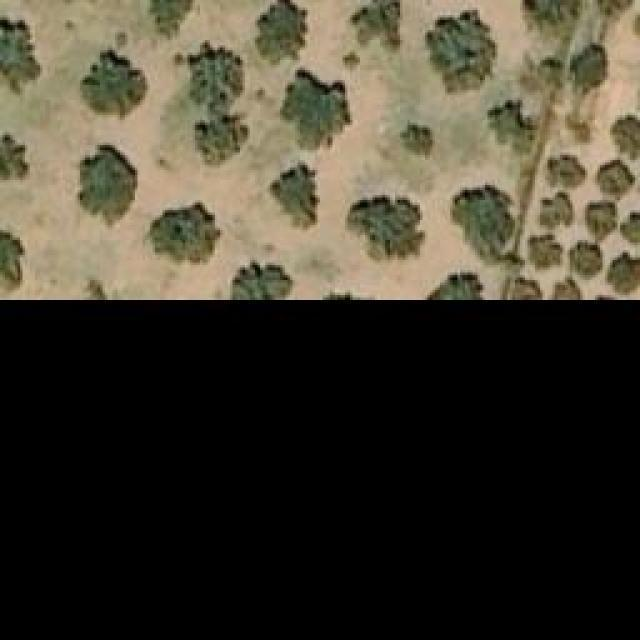Tree: (80, 33, 148, 123), (280, 68, 353, 151), (425, 8, 495, 93), (143, 200, 223, 263), (347, 198, 425, 258), (453, 178, 513, 253), (78, 145, 138, 218), (182, 43, 250, 103), (0, 17, 42, 102), (255, 0, 308, 65), (185, 110, 255, 155), (488, 98, 538, 153), (268, 168, 318, 221), (519, 0, 582, 42), (353, 0, 403, 50), (230, 260, 293, 298), (570, 40, 608, 95), (150, 0, 198, 38), (0, 223, 25, 293), (595, 158, 633, 203), (605, 250, 640, 295), (425, 273, 485, 298), (537, 192, 575, 230), (0, 135, 30, 183), (545, 155, 585, 190), (528, 230, 563, 270), (570, 240, 603, 278), (588, 200, 621, 235), (612, 118, 640, 158), (403, 125, 436, 155), (508, 275, 543, 303), (618, 207, 638, 245), (558, 275, 583, 303), (598, 0, 633, 18), (568, 118, 591, 143), (85, 278, 105, 298), (342, 53, 360, 73)
